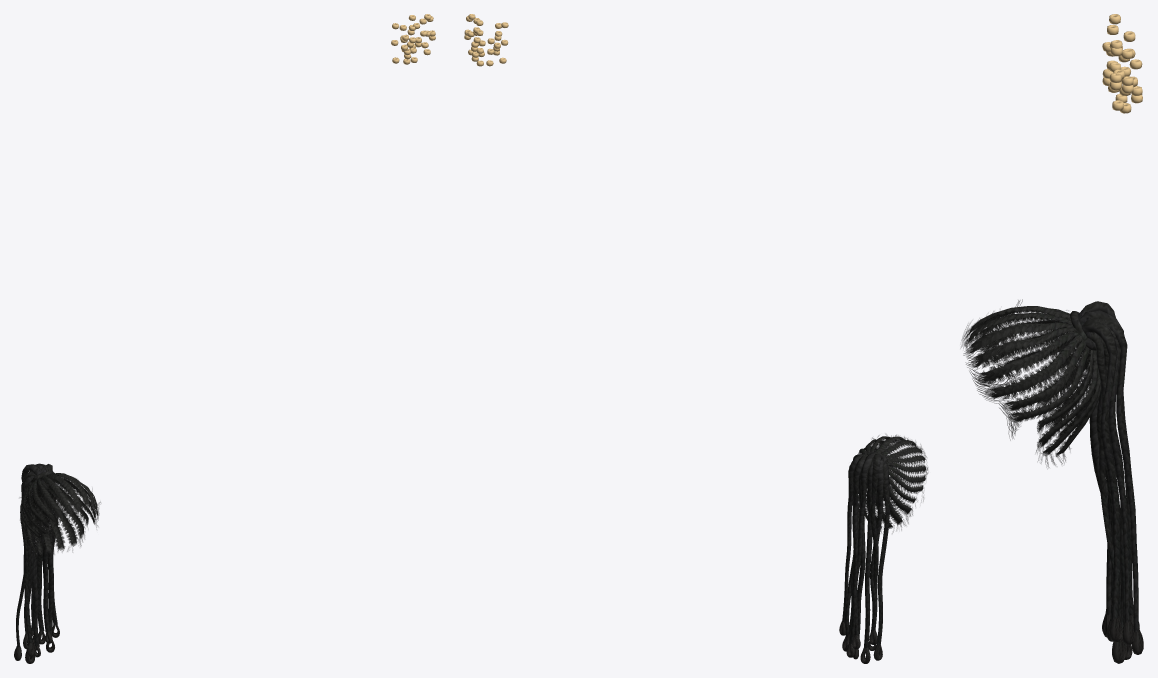
The model's file is tonytail3-transformed.glb.
The picture shows the model from 3 angles, left to right: view 1: azimuth 30°, elevation 25°; view 2: azimuth 150°, elevation 25°; view 3: azimuth 270°, elevation 25°; orthographic projection. The views are drawn at different scales.
Parts seen in each view (by area): view 1: Object_3, Object_2; view 2: Object_3, Object_2; view 3: Object_3, Object_2.
Part boxes in pixels (x1,y1,x2,y2): Object_3: (14, 463, 100, 663); Object_2: (391, 14, 435, 64); Object_3: (839, 434, 928, 663); Object_2: (464, 14, 508, 66); Object_3: (960, 299, 1143, 663); Object_2: (1102, 14, 1142, 113).
Bounding box in the file's own units: 4.63 × 5.61 × 0.9885.
Materials: 2 (1 with a texture image).
